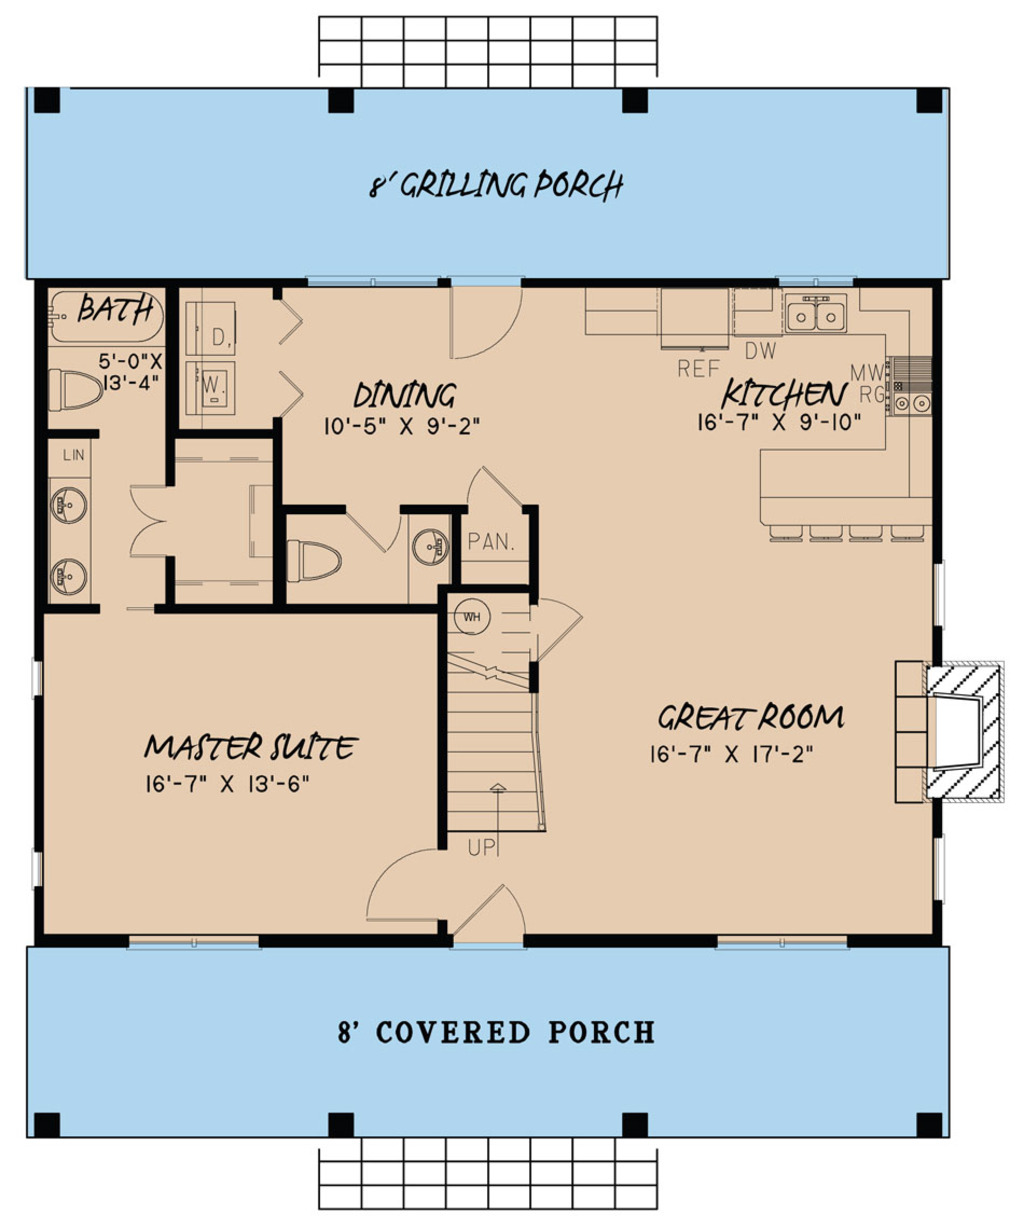door: (447, 284, 530, 375), (353, 843, 449, 916), (451, 877, 530, 949), (452, 453, 530, 512), (125, 482, 177, 560), (339, 506, 408, 562), (532, 594, 585, 659)
kitchen_bar: (754, 329, 938, 549)
large_sink: (46, 358, 114, 417), (285, 538, 349, 597)
small_sink: (53, 475, 97, 607), (411, 510, 459, 608)
stairs: (443, 593, 549, 838)
tub: (47, 287, 159, 343)
twin_sink: (777, 278, 861, 340)
window: (301, 265, 444, 299), (709, 921, 853, 953), (125, 931, 265, 962), (8, 848, 59, 901), (919, 829, 953, 903), (11, 659, 67, 701), (928, 560, 957, 634)
